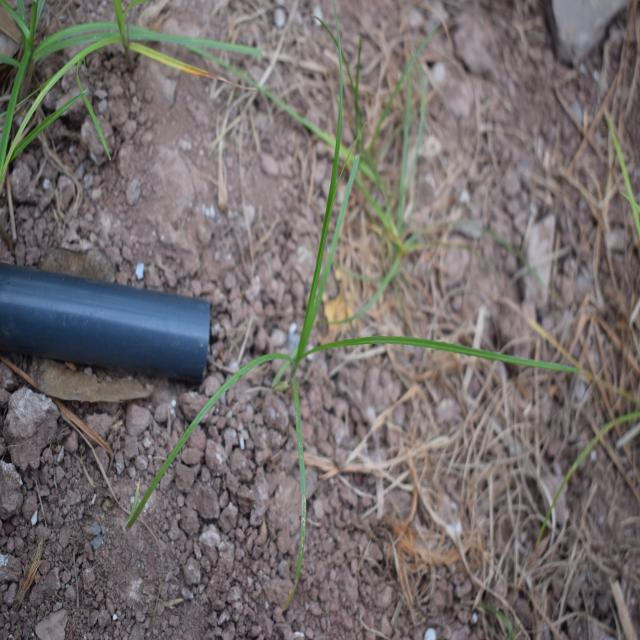sedge: (197, 77, 548, 538)
